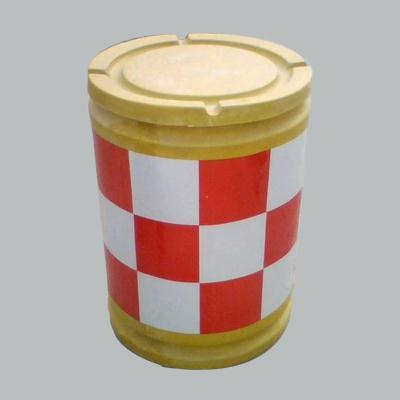sign: (85, 26, 314, 366)
